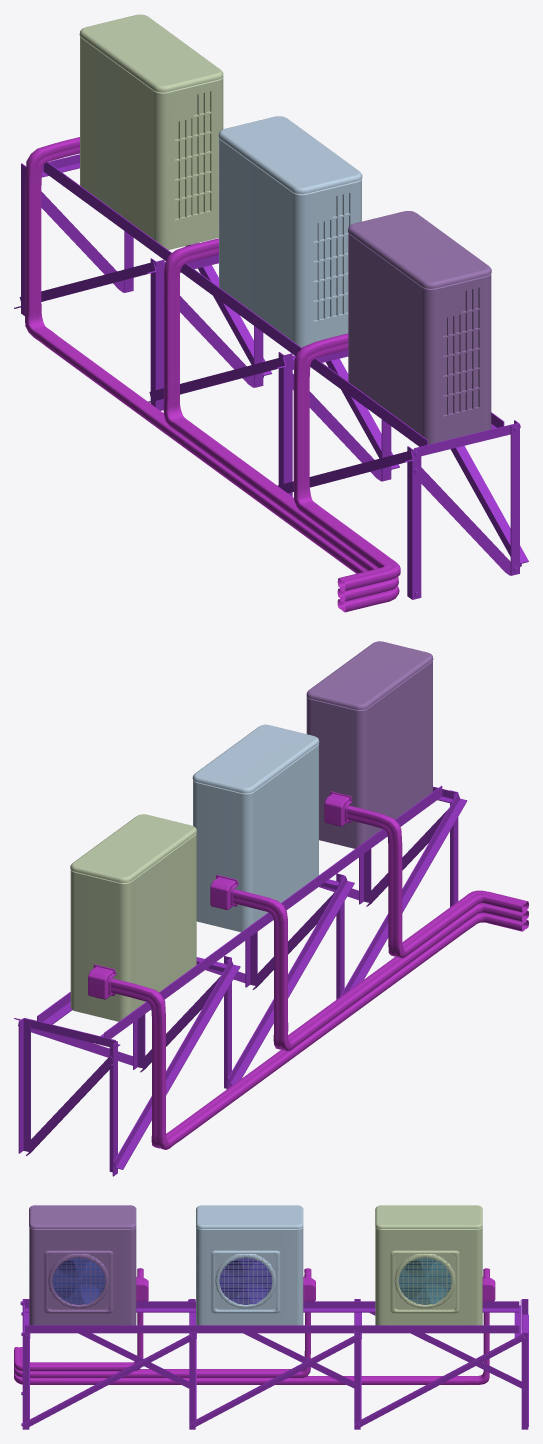
File: uploads_files_2673947_Air_conditioner.fbx
3 views of the same model, one above another, from view 1: azimuth 30°, elevation 25°; view 2: azimuth 150°, elevation 25°; view 3: azimuth 270°, elevation 25° (orthographic). The views are drawn at different scales.
Visible parts, largest first — view 1: Air_Con_base, Air_Con_bodyA, Air_Con_bodyC, Air_Con_bodyB, Pipe; view 2: Air_Con_base, Air_Con_bodyC, Air_Con_bodyB, Pipe, Air_Con_bodyA; view 3: Air_Con_base, Air_Con_bodyA, Air_Con_bodyB, Air_Con_bodyC, Pipe, Air_Con_grilleA, Air_Con_grilleC, Air_Con_grilleB, Air_Con_FanB, Air_Con_FanA, Air_Con_FanC.
Boxes of the visible parts, bbox=[...] form: Air_Con_base: bbox=[14, 154, 528, 599]; Air_Con_bodyA: bbox=[348, 211, 491, 444]; Air_Con_bodyC: bbox=[79, 14, 223, 249]; Air_Con_bodyB: bbox=[218, 116, 362, 347]; Pipe: bbox=[25, 137, 400, 612]; Air_Con_base: bbox=[14, 785, 467, 1176]; Air_Con_bodyC: bbox=[70, 814, 196, 1021]; Air_Con_bodyB: bbox=[192, 724, 319, 932]; Pipe: bbox=[88, 791, 528, 1149]; Air_Con_bodyA: bbox=[306, 641, 433, 848]; Air_Con_base: bbox=[20, 1299, 528, 1429]; Air_Con_bodyA: bbox=[29, 1205, 136, 1325]; Air_Con_bodyB: bbox=[196, 1205, 303, 1325]; Air_Con_bodyC: bbox=[375, 1205, 482, 1325]; Pipe: bbox=[14, 1268, 495, 1384]; Air_Con_grilleA: bbox=[48, 1253, 109, 1310]; Air_Con_grilleC: bbox=[394, 1253, 455, 1310]; Air_Con_grilleB: bbox=[215, 1253, 276, 1310]; Air_Con_FanB: bbox=[219, 1257, 272, 1304]; Air_Con_FanA: bbox=[52, 1257, 105, 1304]; Air_Con_FanC: bbox=[398, 1257, 451, 1304].
Size of the model in its own units: 0.0837 by 0.1289 by 0.304.
